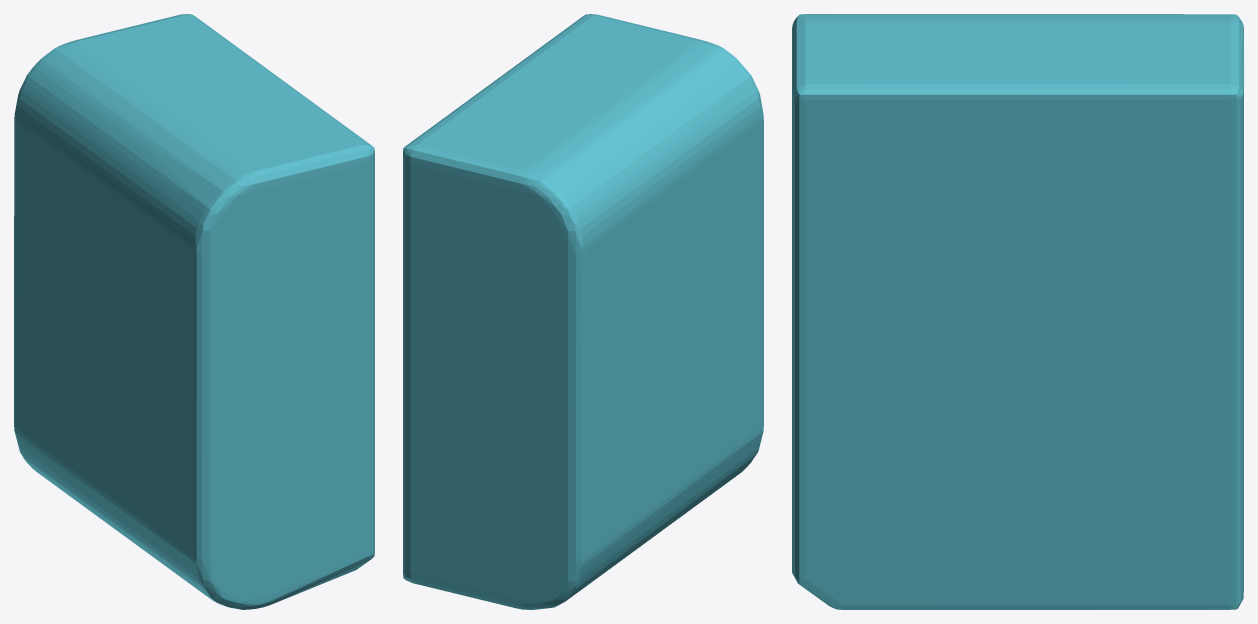
File: right_lf_metacarpal_part_2.obj
3 renders of one model, left to right at view 1: azimuth 30°, elevation 25°; view 2: azimuth 150°, elevation 25°; view 3: azimuth 270°, elevation 25°, orthographic. The views are drawn at different scales.
Size of the model in its own units: 9.61 by 22.4 by 17.53.
